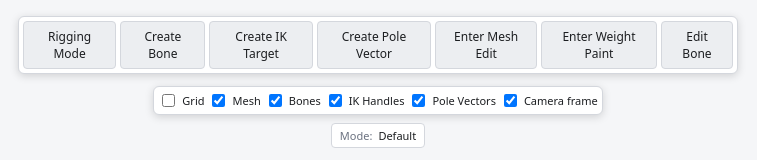
Test case: CanvasToolbar › enters bone creation mode when Create Bone is clicked
What coordinates should you click on to do the following:
click the button "Create Bone"
I would click on:
 (163, 45)
Its box is [120,21,205,69].
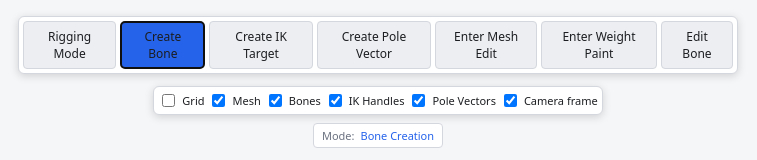
Expected: the text "Bone Creation" is shown, [360,128,434,143]
